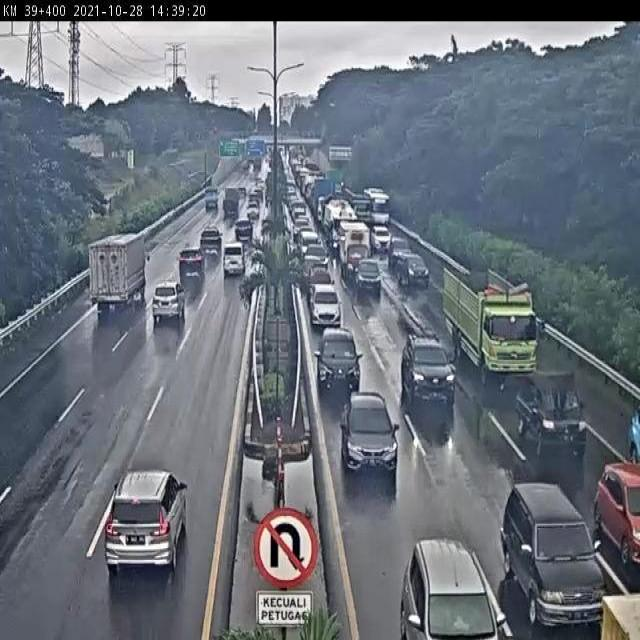car: (499, 484, 602, 621), (104, 472, 186, 568), (339, 392, 397, 475), (401, 332, 456, 405), (315, 328, 361, 392), (151, 282, 186, 322), (311, 281, 340, 327), (391, 254, 430, 286), (221, 240, 246, 276), (177, 249, 206, 280), (355, 257, 380, 288), (198, 226, 224, 253), (386, 235, 411, 260), (303, 253, 324, 280), (232, 220, 253, 245), (307, 264, 331, 285), (305, 244, 328, 265)
mid truck: (443, 266, 538, 382), (89, 235, 150, 317)
small truck: (519, 368, 587, 455), (340, 224, 370, 271)
